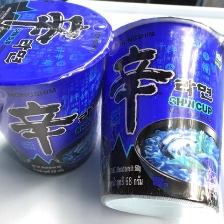paper_cup: (92, 10, 224, 224), (0, 0, 115, 180)
